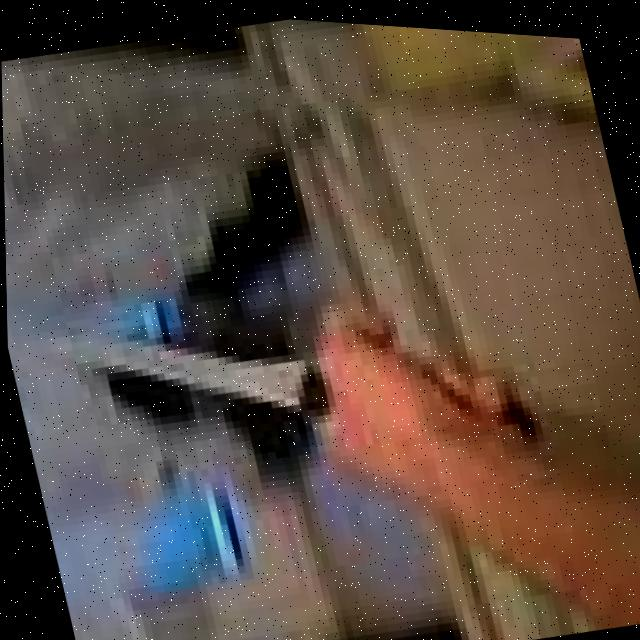knife: (23, 273, 339, 472)
